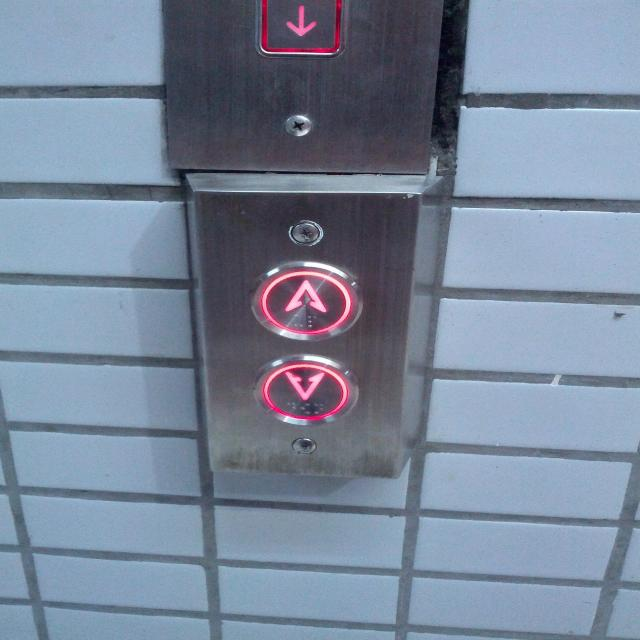down: (252, 351, 362, 430), (256, 0, 349, 58)
up: (247, 256, 366, 342)
